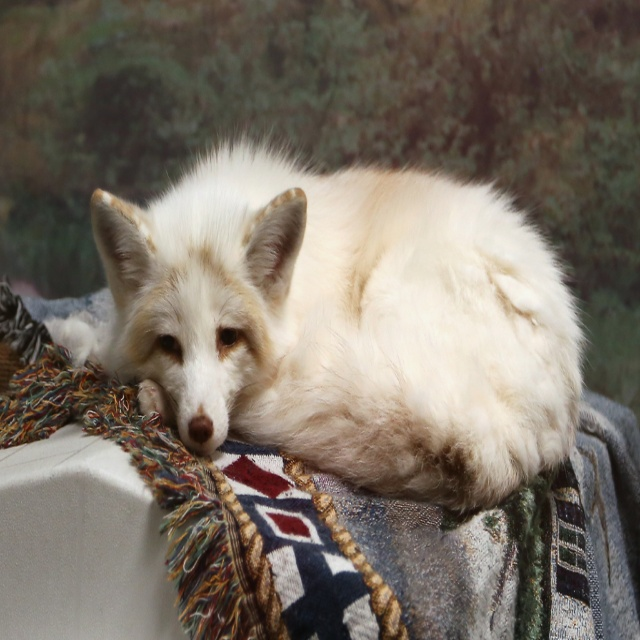Fox: (21, 113, 596, 524)
